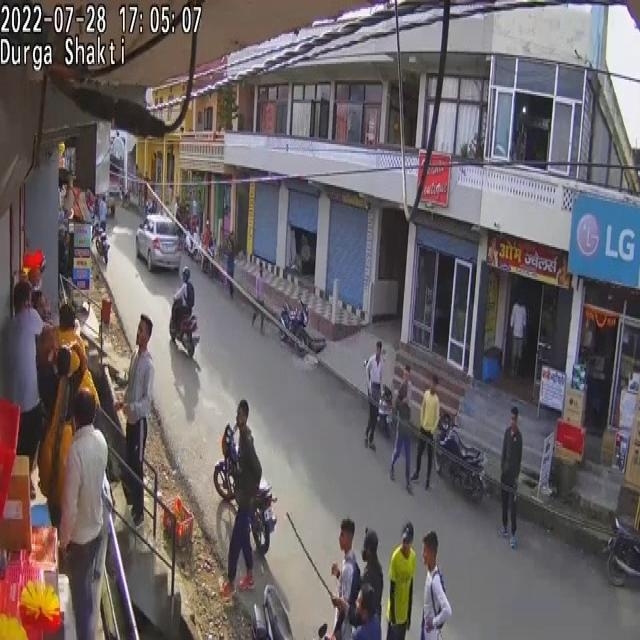fight: (59, 390, 109, 640), (6, 280, 47, 490), (55, 301, 116, 442), (118, 315, 155, 524), (326, 517, 360, 640), (348, 529, 384, 639)
non-fight: (220, 399, 263, 595), (386, 521, 416, 640), (421, 530, 453, 640), (410, 376, 440, 492), (498, 406, 522, 546), (388, 372, 414, 488), (364, 342, 385, 448), (171, 269, 195, 339), (508, 298, 527, 378), (224, 230, 236, 297), (201, 220, 213, 274), (98, 194, 107, 233)
